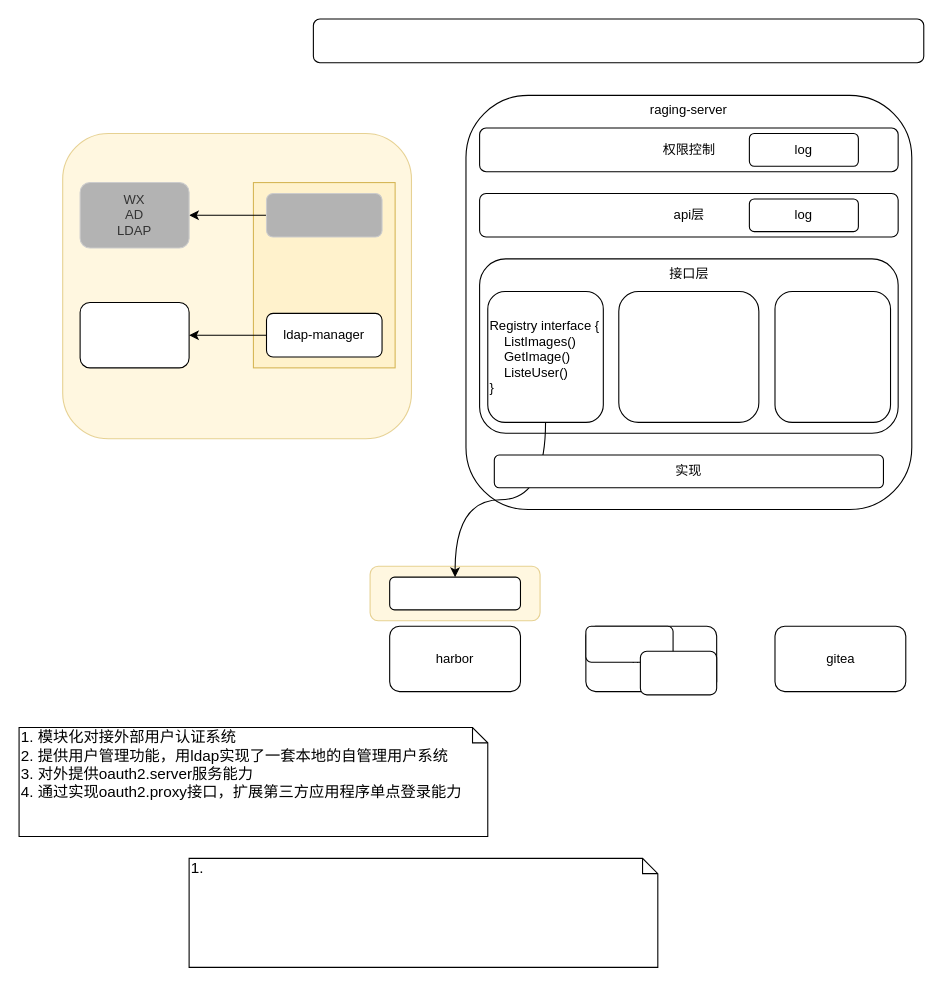
Some shapes in this 943 by 986 pixel diagram are drawn without their labels. The shapes that lost their labels are listed below. From the top down, each one's centre as x and y in pixels, then its label:
At point (618, 40): "ui".
At point (323, 214): "user-interface".
At point (134, 334): "ldap".
At point (688, 356): "Container interface { Projects() Namespace() Secrets() }".
At point (832, 356): "Project interface { Order() I teration() }".
At point (454, 593): "proxy".
At point (629, 643): "rancher".
At point (678, 672): "operator".
